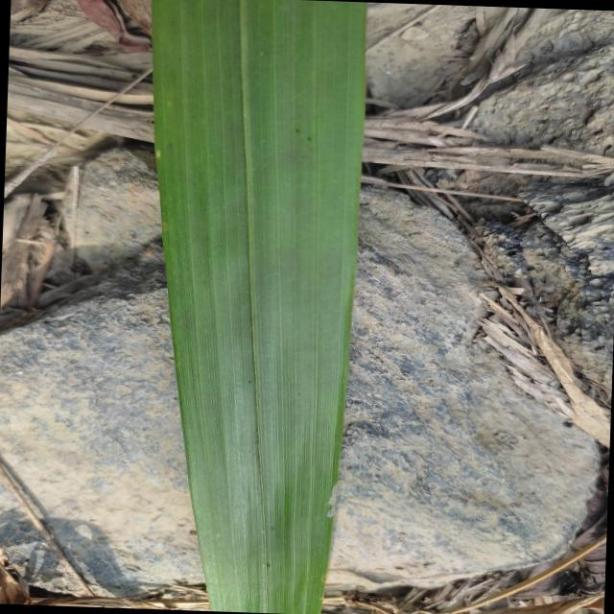Healthy: (151, 1, 366, 614)
